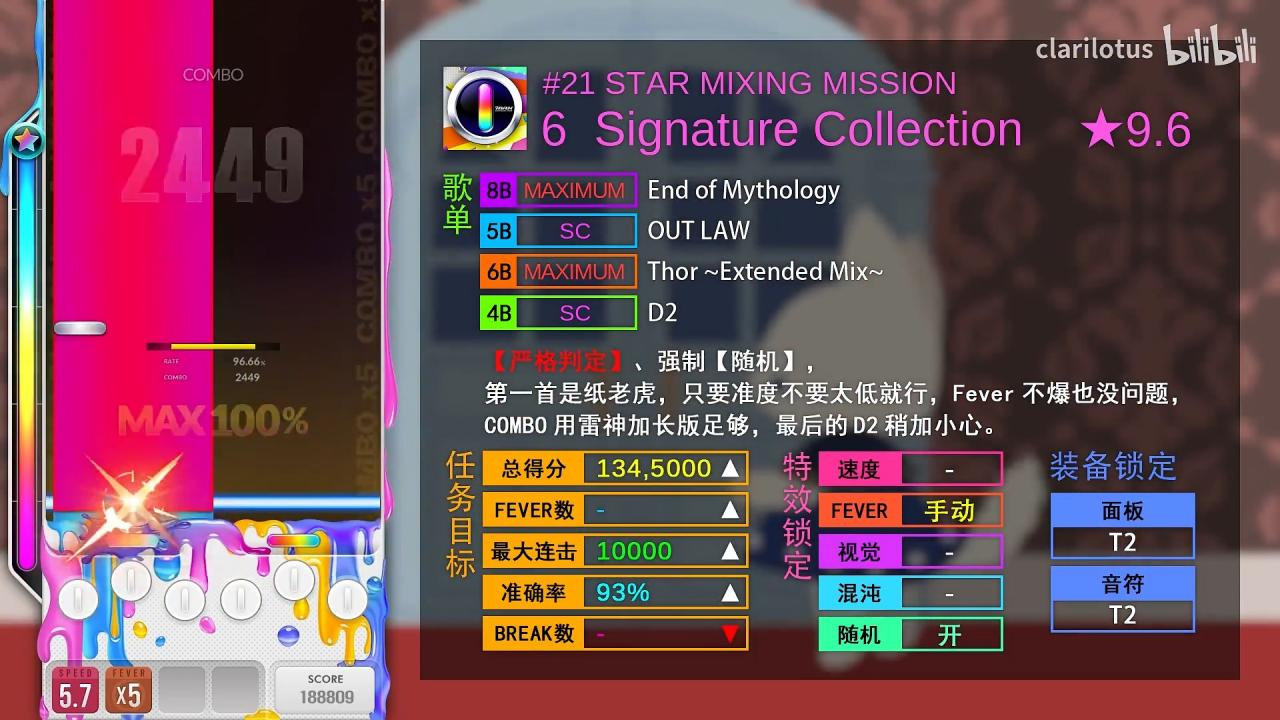note: (54, 321, 107, 336)
